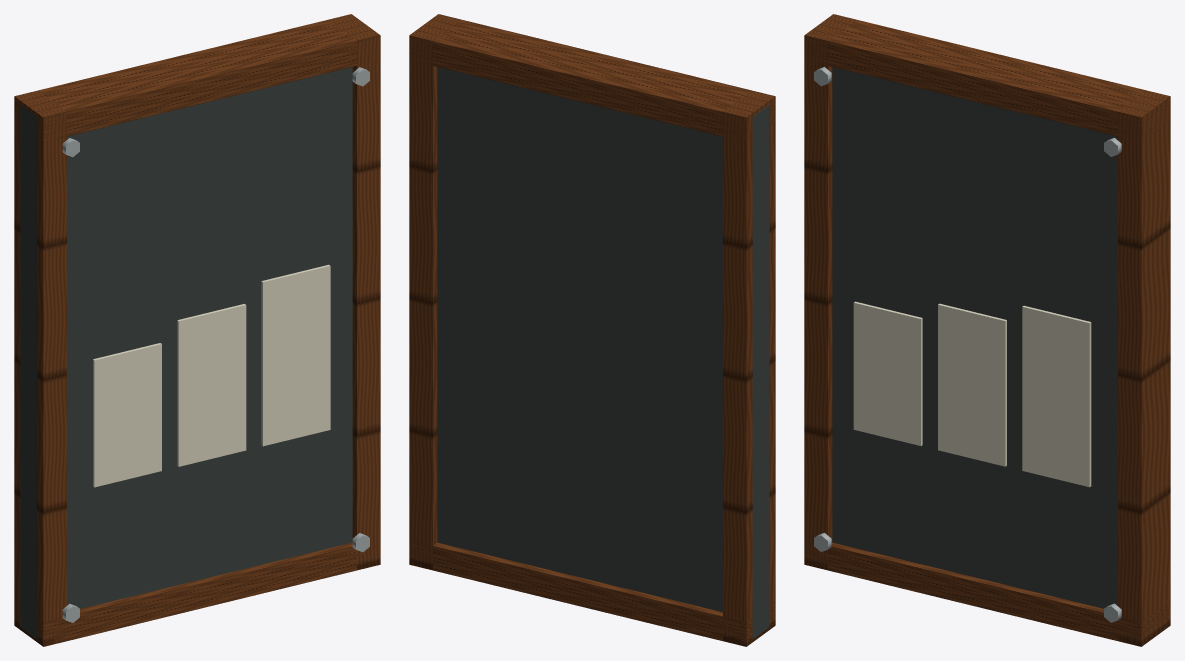
The model's file is roadside-survival-stops-fuel-price-board-b3535fca__23544.glb.
3 views of the same model, side by side, from view 1: azimuth 30°, elevation 25°; view 2: azimuth 150°, elevation 25°; view 3: azimuth 330°, elevation 25° (orthographic).
Visible parts, largest first — view 1: fuel-price-board; view 2: fuel-price-board; view 3: fuel-price-board.
Boxes of the visible parts, left/top/right/bottom form: fuel-price-board: left=14, top=14, right=380, bottom=646; fuel-price-board: left=409, top=14, right=775, bottom=646; fuel-price-board: left=804, top=14, right=1170, bottom=646.
Size of the model in its own units: 1 by 1.5 by 0.183.
Materials: 4 (1 with a texture image).
